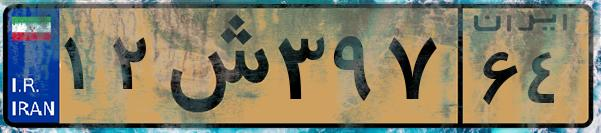1: (57, 26, 110, 100)
2: (110, 28, 158, 98)
3: (270, 28, 330, 110)
4: (525, 38, 570, 115)
6: (475, 38, 525, 113)
7: (385, 28, 445, 110)
9: (330, 28, 385, 110)
ش: (158, 12, 270, 120)
